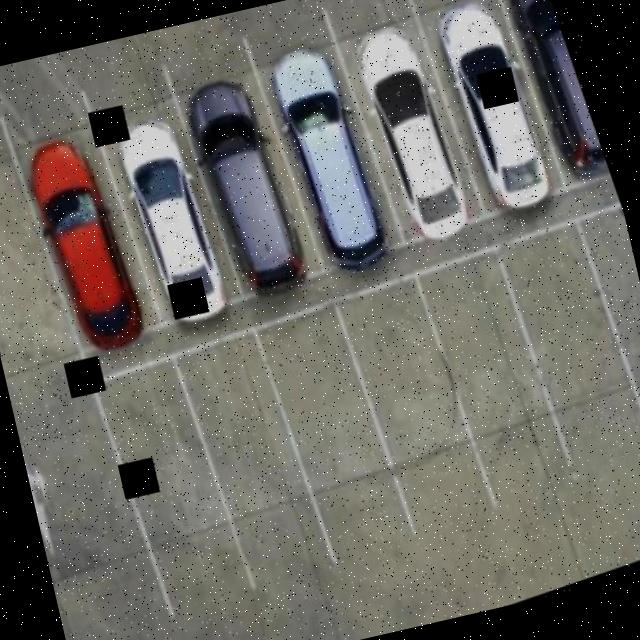empty: (426, 247, 584, 528), (175, 329, 337, 602), (94, 353, 248, 619), (260, 300, 412, 569), (338, 274, 492, 538), (500, 226, 640, 510), (569, 210, 640, 486)
occupied: (248, 12, 408, 293), (6, 112, 171, 378), (335, 0, 493, 273), (172, 52, 326, 316), (97, 92, 250, 346), (415, 0, 572, 244), (474, 0, 611, 197)
